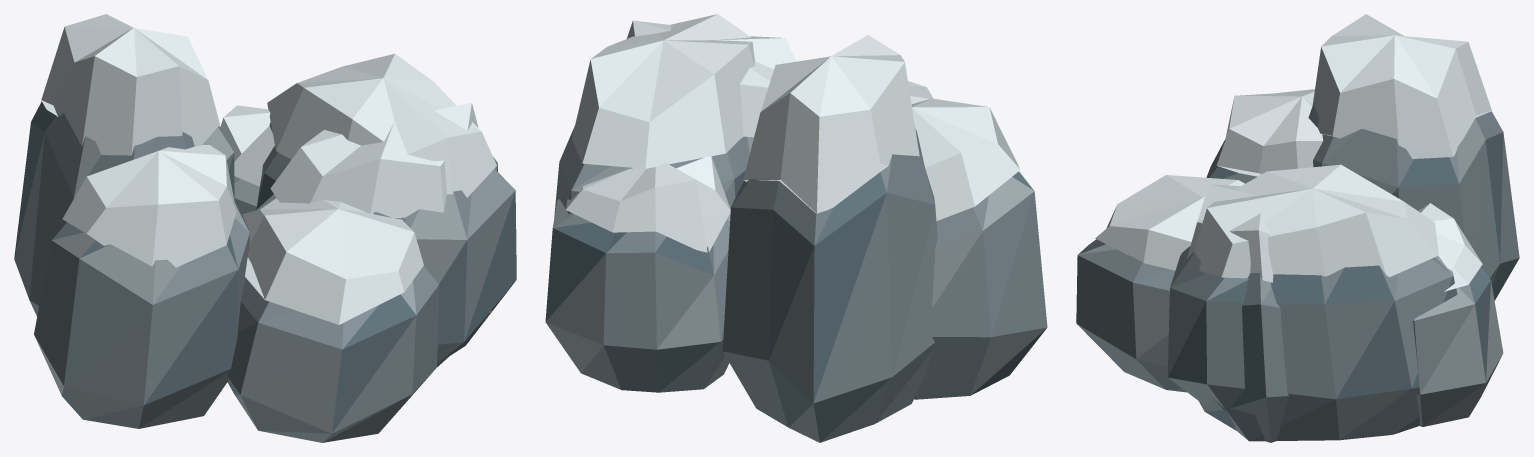
File: ROCK_09_SnowyFormation.glb
3 renders of one model, left to right at view 1: azimuth 30°, elevation 25°; view 2: azimuth 150°, elevation 25°; view 3: azimuth 270°, elevation 25°, orthographic. The views are drawn at different scales.
Visible parts, largest first — view 1: ROCK_09_SnowyFormation; view 2: ROCK_09_SnowyFormation; view 3: ROCK_09_SnowyFormation.
Part boxes in pixels (bbox=[...]): ROCK_09_SnowyFormation: bbox=[14, 14, 516, 442]; ROCK_09_SnowyFormation: bbox=[545, 14, 1047, 442]; ROCK_09_SnowyFormation: bbox=[1076, 14, 1519, 442].
Bounding box in the file's own units: 3.7 × 2.63 × 3.59.
